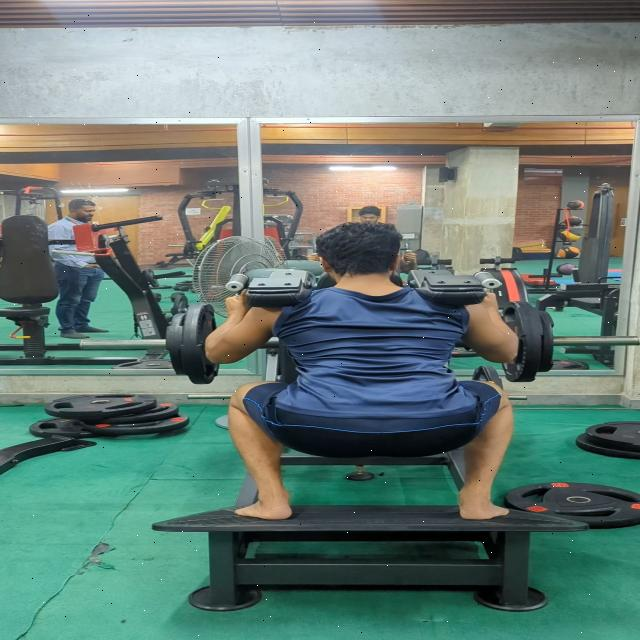Normal_SquatsWithBarbell: (186, 211, 535, 551)
